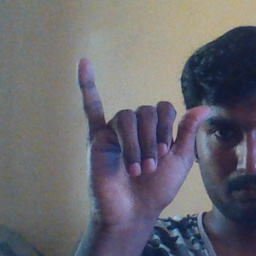J: (74, 57, 211, 220)
